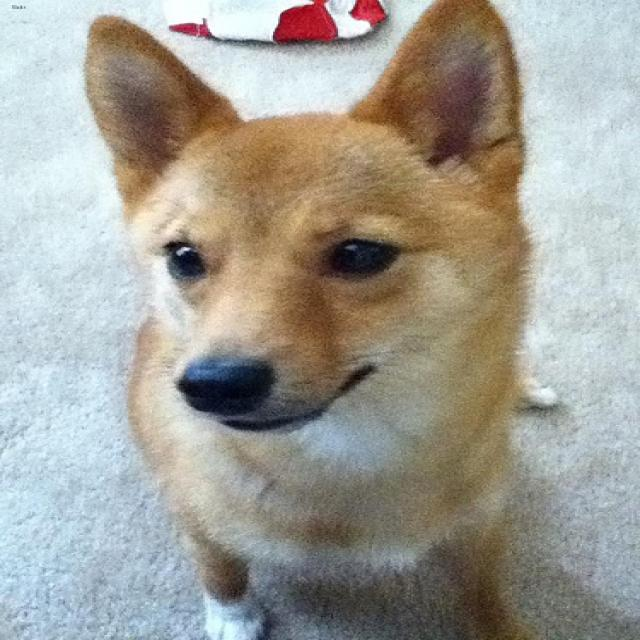dog: (84, 0, 518, 439)
